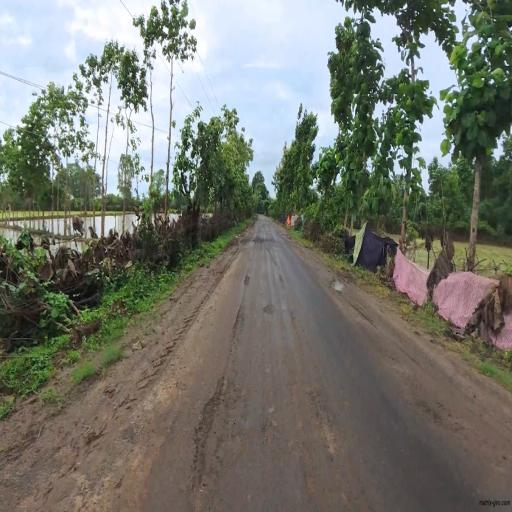ravelling: (182, 350, 374, 507)
